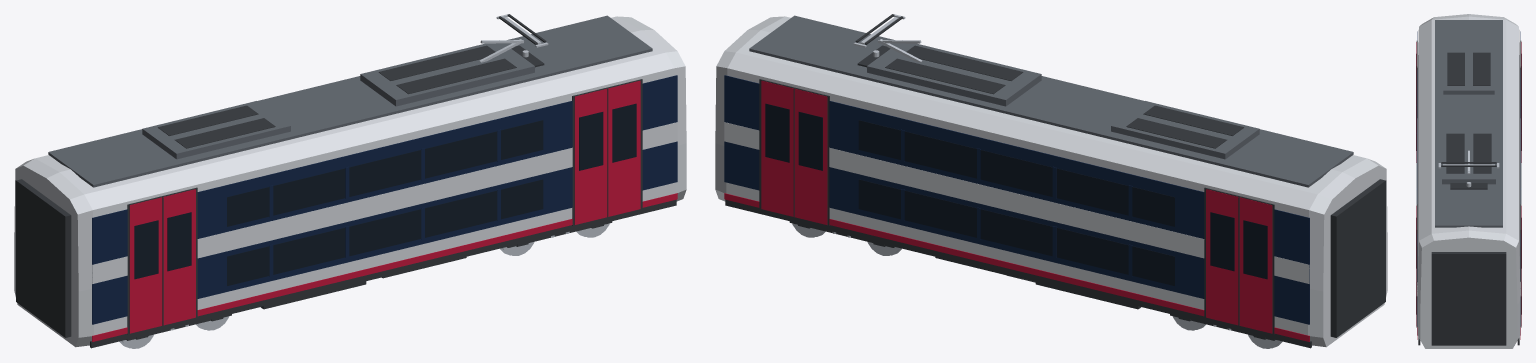
The model's file is rer_c_z2n_car.glb.
The picture shows the model from 3 angles, left to right: view 1: azimuth 30°, elevation 25°; view 2: azimuth 150°, elevation 25°; view 3: azimuth 270°, elevation 25°; orthographic projection. The views are drawn at different scales.
Visible parts, largest first — view 1: rer_c_z2n_neutral; view 2: rer_c_z2n_neutral; view 3: rer_c_z2n_neutral.
Part boxes in pixels (<box>): rer_c_z2n_neutral: <box>14,14,686,348</box>; rer_c_z2n_neutral: <box>715,14,1387,348</box>; rer_c_z2n_neutral: <box>1416,14,1521,348</box>.
Bounding box in the file's own units: 15.14 × 4.88 × 2.97.
